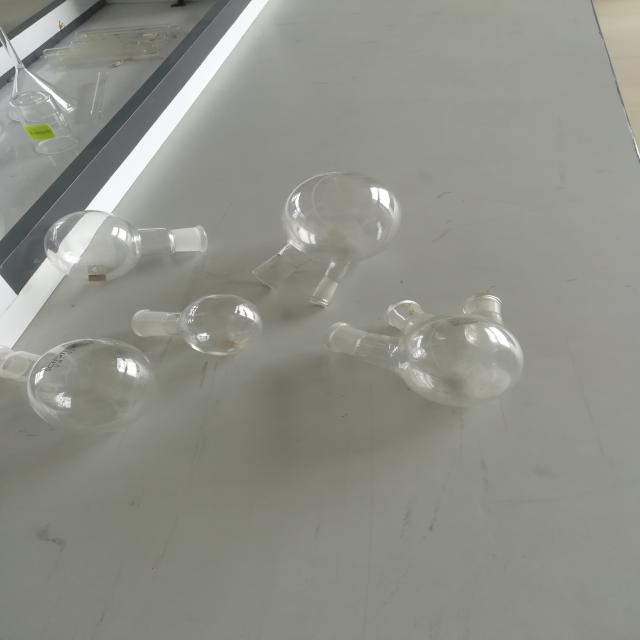Round_Bottom_Flask_Borosilicate_Glass_1_Neck: (0, 318, 165, 442), (24, 194, 218, 293), (123, 278, 284, 363)
Round_Bottom_Flask_Borosilicate_Glass_2_Neck: (232, 162, 412, 315)
Round_Bottom_Flask_Borosilicate_Glass_3_Neck: (314, 278, 552, 420)
